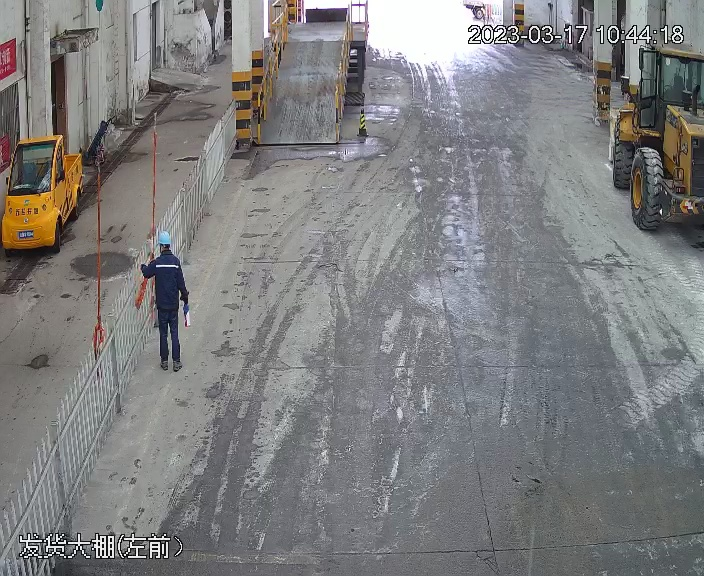head: (145, 234, 184, 272)
helmet: (155, 232, 174, 247)
people: (139, 233, 190, 373)
